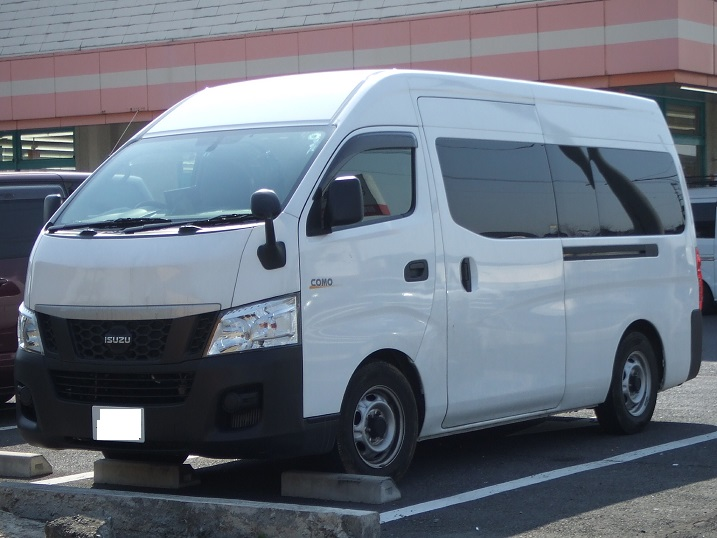van: (18, 66, 704, 482)
